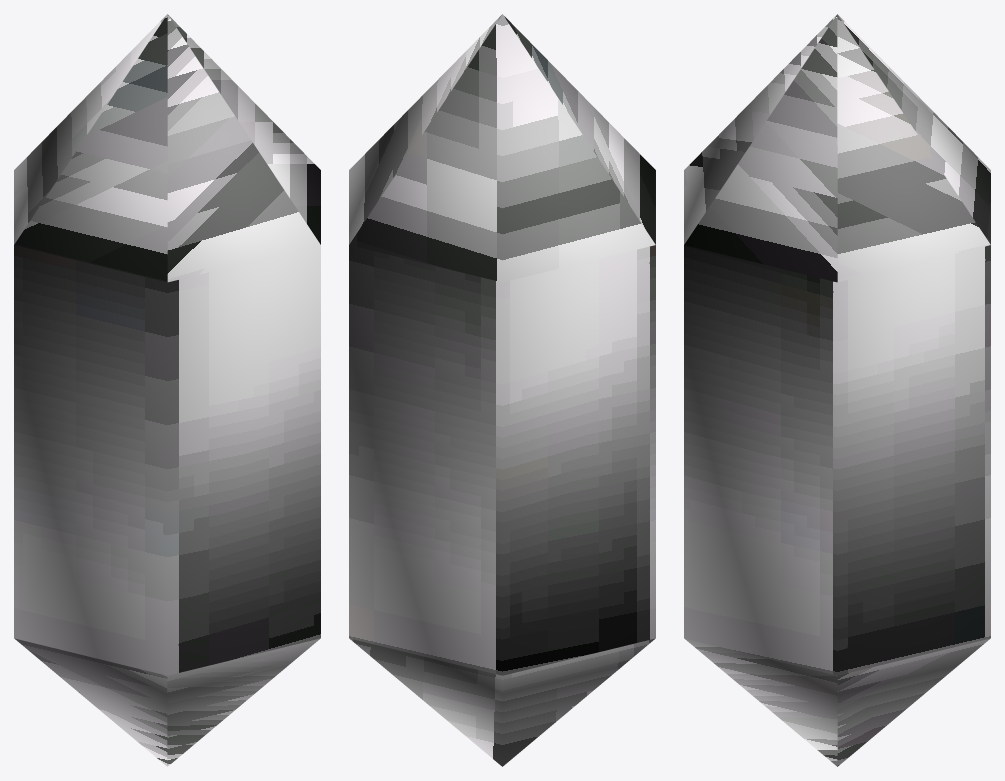
The model's file is INST_TROLLHOLE_CRYSTALA.obj.
3 views of the same model, side by side, from view 1: azimuth 30°, elevation 25°; view 2: azimuth 150°, elevation 25°; view 3: azimuth 270°, elevation 25° (orthographic).
Parts seen in each view (by area): view 1: rystalA_Lod1_01; view 2: rystalA_Lod1_01; view 3: rystalA_Lod1_01.
Part boxes in pixels (x1,y1,x2,y2): rystalA_Lod1_01: (14,14,320,766); rystalA_Lod1_01: (349,14,655,766); rystalA_Lod1_01: (684,14,990,766).
Size of the model in its own units: 25.55 by 59.93 by 22.13.
